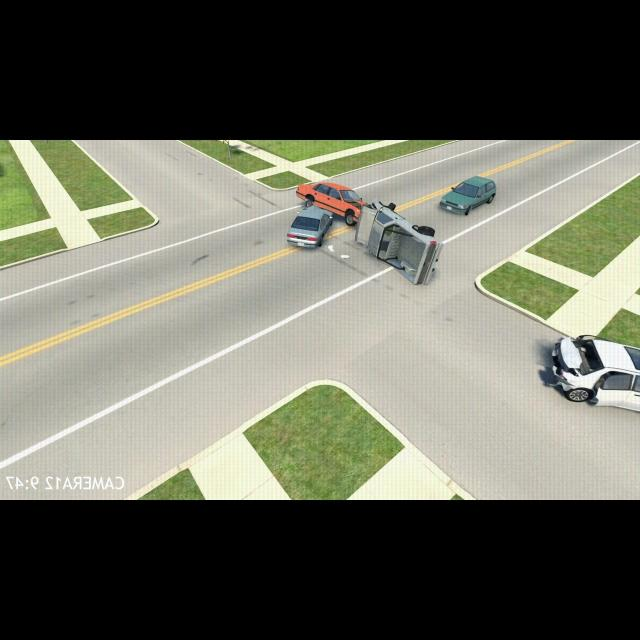accident: (352, 197, 446, 288), (284, 175, 376, 251)
